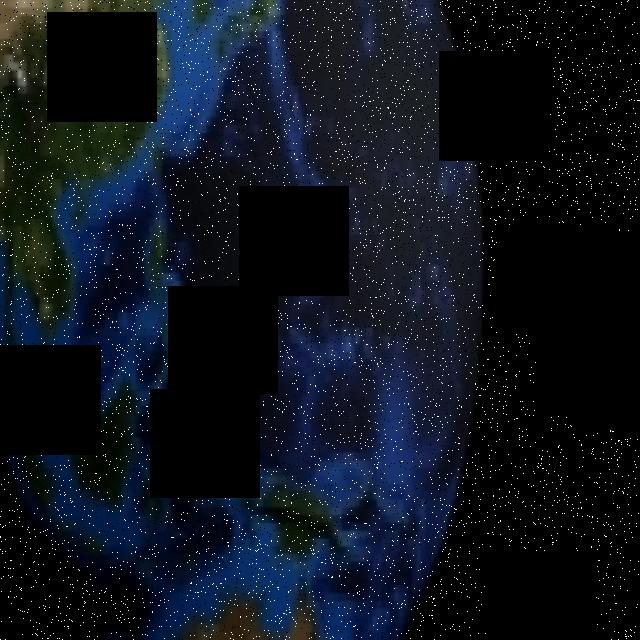Earth: (1, 0, 487, 640)
